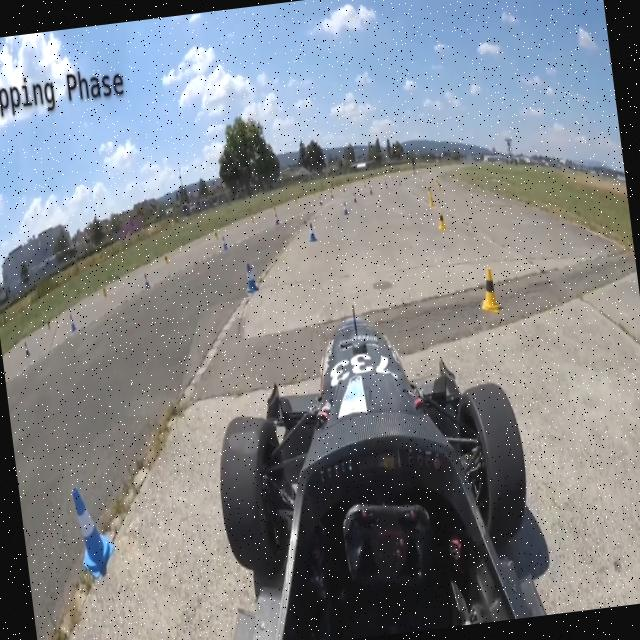blue_cone: (71, 482, 118, 580), (243, 261, 259, 293), (307, 222, 317, 242)
yellow_cone: (476, 264, 502, 314), (436, 206, 446, 232)
